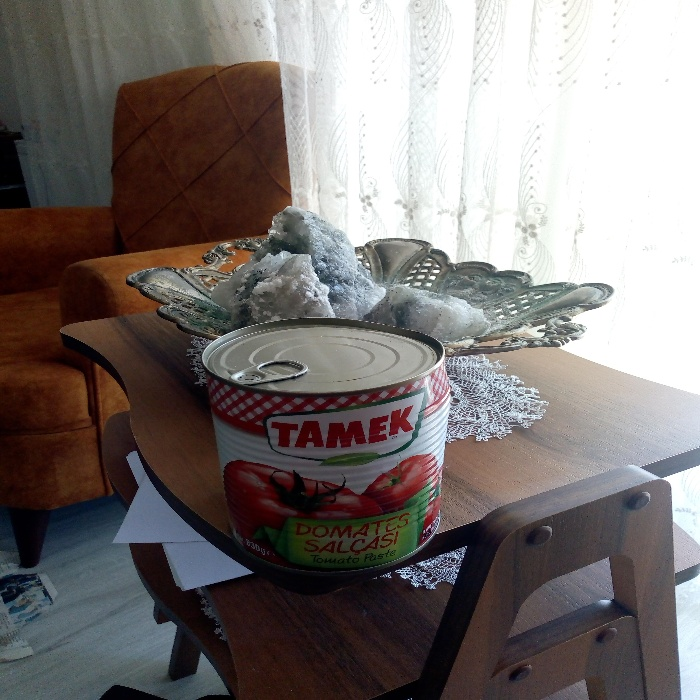salca: (195, 299, 470, 576)
